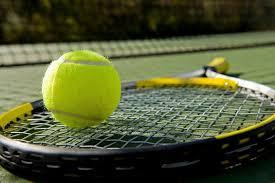tennis ball: (41, 48, 121, 132)
tennis racket: (0, 56, 274, 182)
